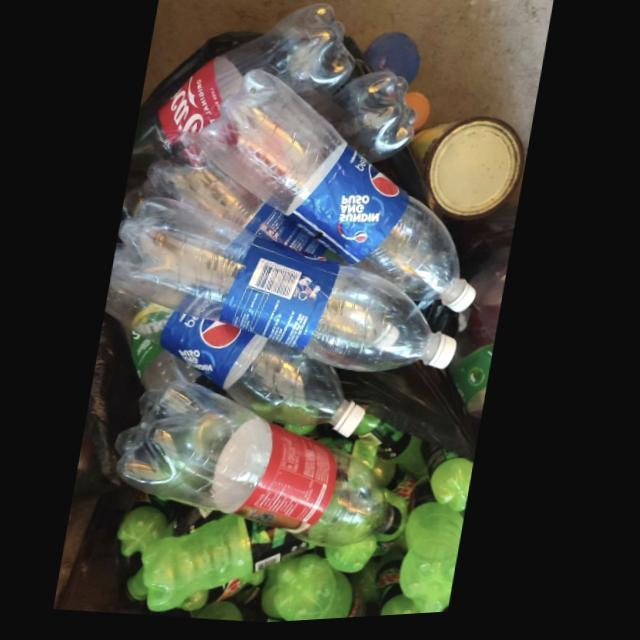metal: (413, 122, 526, 221)
plastic: (199, 71, 479, 318), (113, 198, 461, 376), (119, 383, 408, 550), (129, 6, 356, 185), (108, 286, 370, 441), (133, 517, 324, 614), (314, 76, 417, 166), (405, 483, 471, 619), (280, 558, 372, 625), (426, 445, 478, 518), (381, 553, 430, 621), (122, 494, 174, 558)
